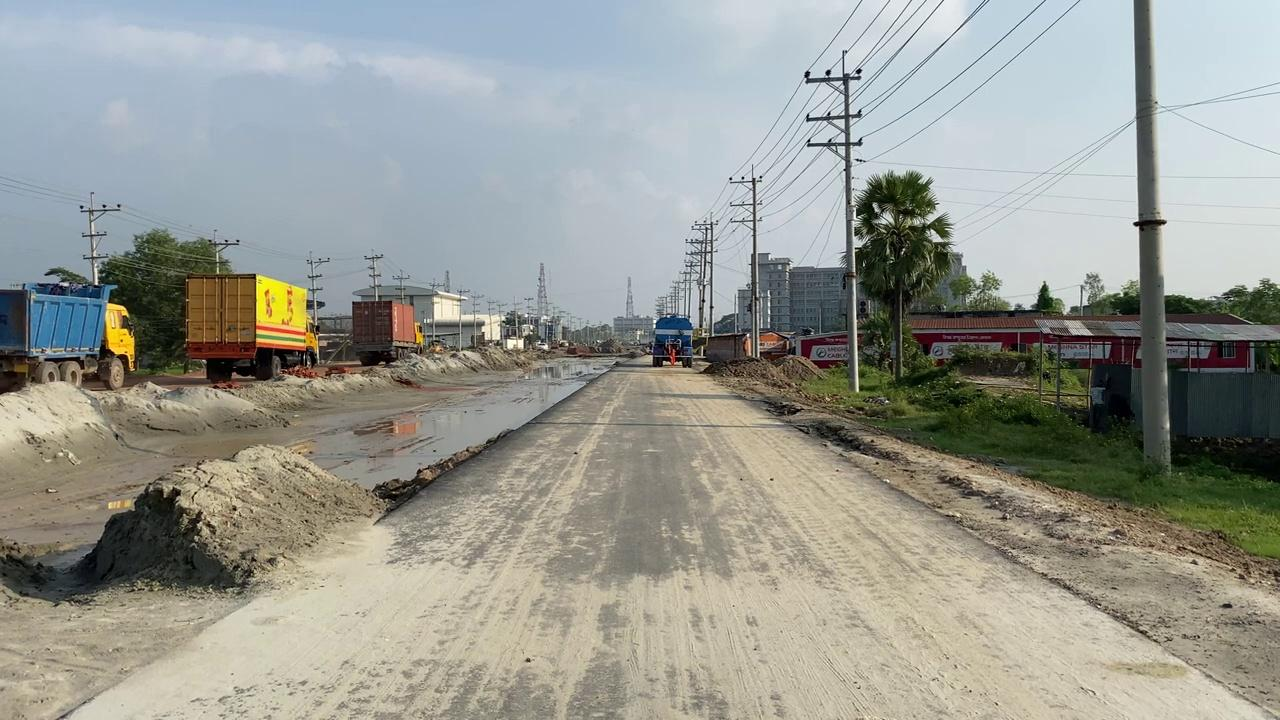Garbage: (127, 452, 412, 575)
Pole: (803, 49, 864, 392), (1132, 0, 1171, 476)
Rickshaw: (522, 372, 1192, 720)
Sidewalk: (328, 376, 608, 488)
Stuck-water: (668, 346, 676, 364)
Traffic-sign: (838, 167, 956, 382)
Tree: (183, 272, 319, 382), (0, 280, 136, 389), (351, 299, 423, 366), (651, 313, 694, 367), (743, 330, 789, 361)
